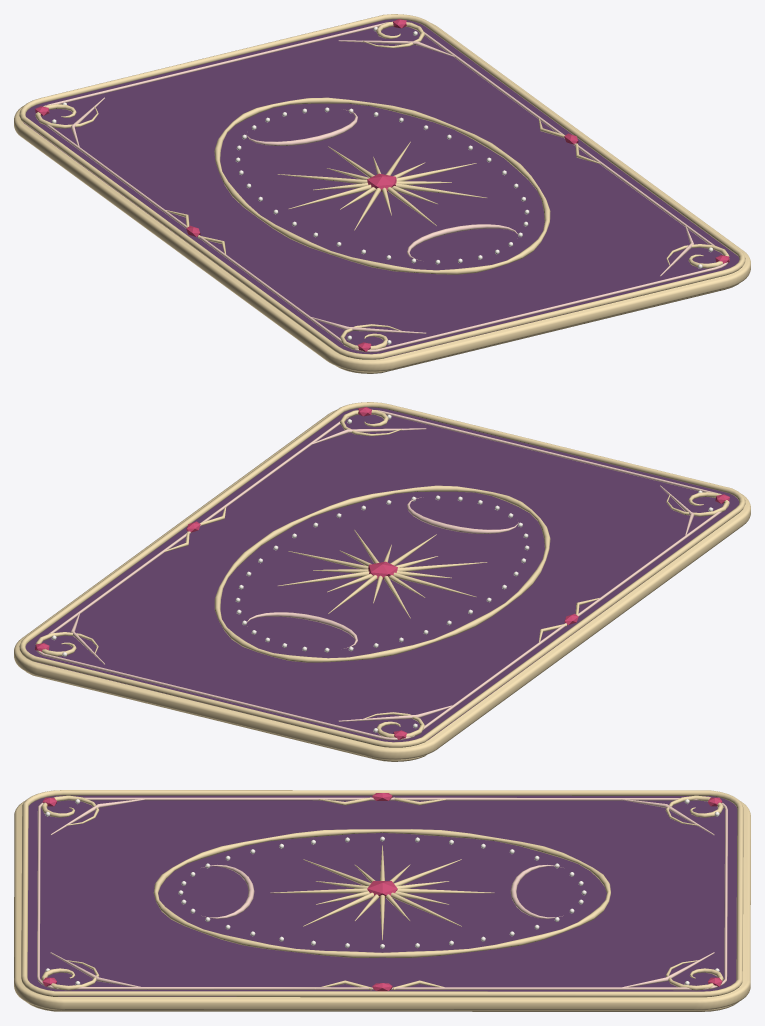
Rendered from baroque_card.glb.
3 views of the same model, one above another, from view 1: azimuth 30°, elevation 25°; view 2: azimuth 150°, elevation 25°; view 3: azimuth 270°, elevation 25° (orthographic). The views are drawn at different scales.
Parts seen in each view (by area): view 1: CardBackCanvas, CardBaroqueFrame, CardMillegrainPearls, CardCabochonGems; view 2: CardBackCanvas, CardBaroqueFrame, CardMillegrainPearls, CardCabochonGems; view 3: CardBackCanvas, CardBaroqueFrame, CardCabochonGems, CardMillegrainPearls.
Boxes of the visible parts, <box> form: CardBackCanvas: <box>23,19,739,357</box>; CardBaroqueFrame: <box>14,14,750,373</box>; CardMillegrainPearls: <box>51,26,713,344</box>; CardCabochonGems: <box>35,19,729,351</box>; CardBackCanvas: <box>25,407,739,742</box>; CardBaroqueFrame: <box>14,402,750,761</box>; CardMillegrainPearls: <box>51,414,713,732</box>; CardCabochonGems: <box>35,407,729,739</box>; CardBackCanvas: <box>27,795,737,996</box>; CardBaroqueFrame: <box>14,790,750,1011</box>; CardCabochonGems: <box>42,793,722,991</box>; CardMillegrainPearls: <box>45,799,719,984</box>.
Bounding box in the file's own units: 1 × 0.0716 × 1.48.
